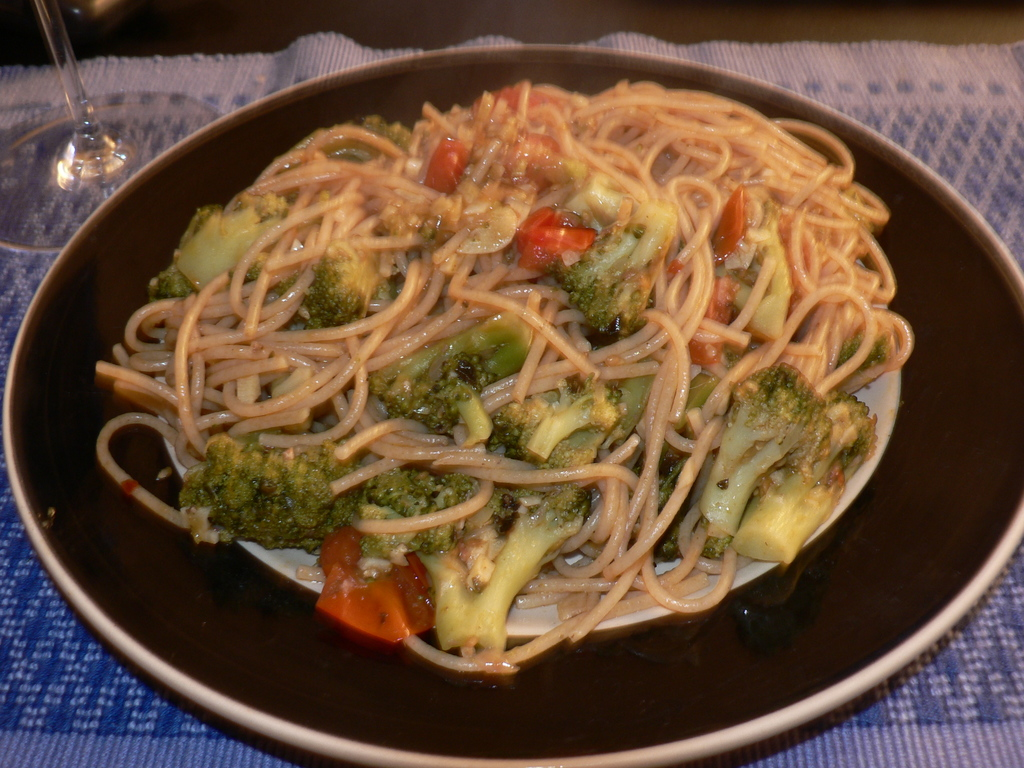pasta: (97, 56, 901, 676)
